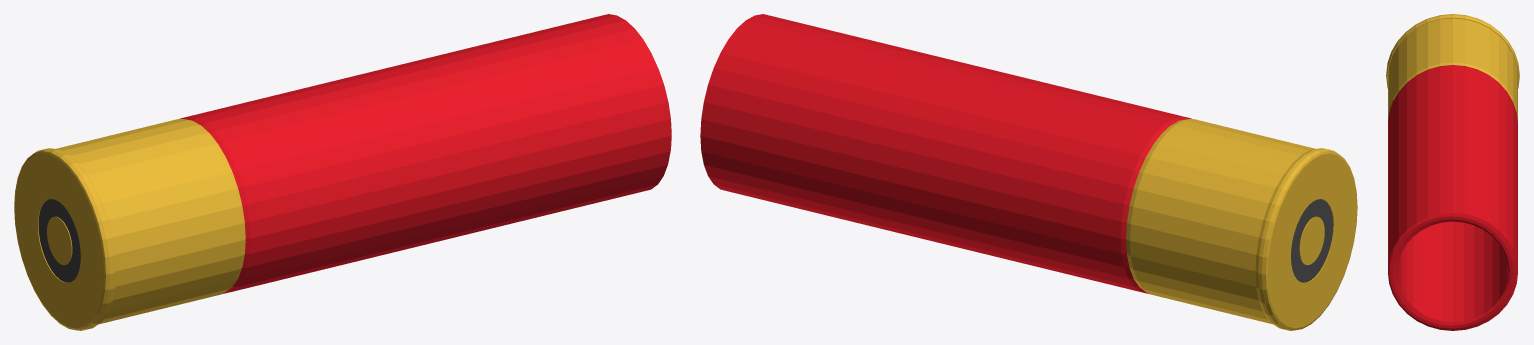
The model's file is ShotgunShell.fbx.
The picture shows the model from 3 angles, left to right: view 1: azimuth 30°, elevation 25°; view 2: azimuth 150°, elevation 25°; view 3: azimuth 270°, elevation 25°; orthographic projection. The views are drawn at different scales.
Parts seen in each view (by area): view 1: Cylinder; view 2: Cylinder; view 3: Cylinder.
Part boxes in pixels (x1,y1,x2,y2): Cylinder: (14,14,671,330); Cylinder: (700,14,1357,330); Cylinder: (1386,14,1519,330).
Bounding box in the file's own units: 0.0709 × 0.0201 × 0.0201.
